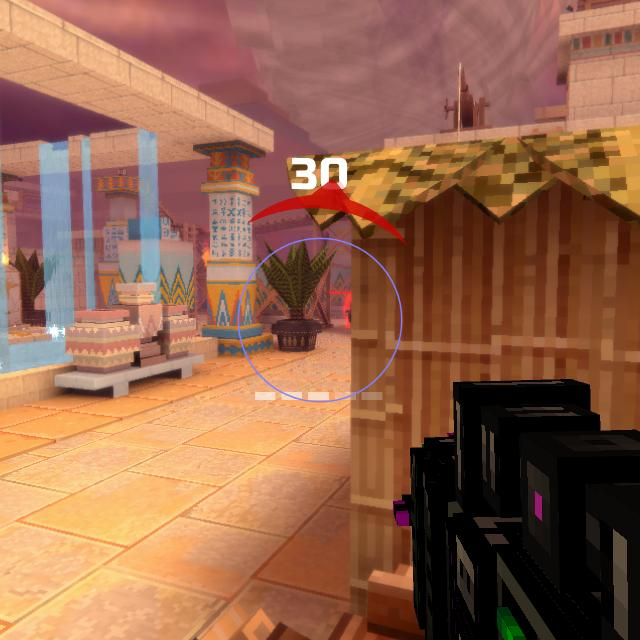Enemy: (346, 303, 352, 328)
